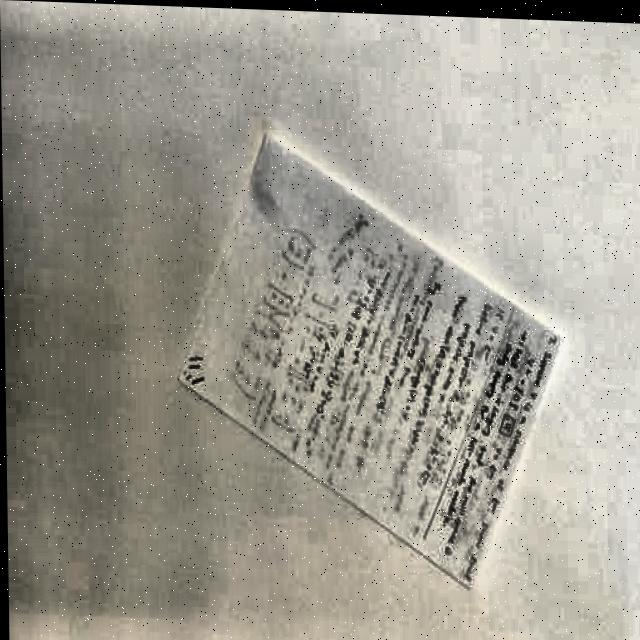paper: (175, 128, 568, 594)
